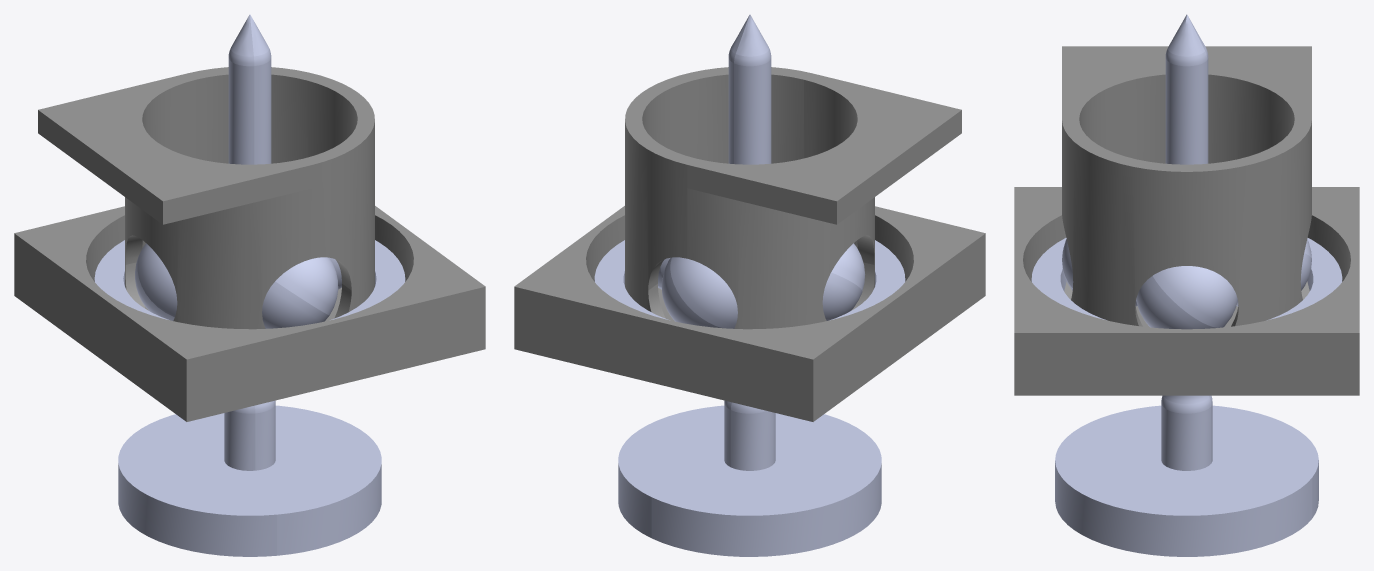
The model's file is eas-tag-internal-mechanism.obj.
3 renders of one model, left to right at view 1: azimuth 30°, elevation 25°; view 2: azimuth 150°, elevation 25°; view 3: azimuth 270°, elevation 25°, orthographic.
Visible parts, largest first — view 1: empty_3, empty_2, empty_5, empty_4, empty_6, empty_9; view 2: empty_3, empty_2, empty_5, empty_8, empty_6, empty_9; view 3: empty_3, empty_5, empty_2, empty_7, empty_6.
Boxes of the visible parts, <box> form: empty_3: <box>38,67,374,329</box>; empty_2: <box>14,206,485,421</box>; empty_5: <box>118,14,381,556</box>; empty_4: <box>262,257,338,328</box>; empty_6: <box>94,240,405,320</box>; empty_9: <box>135,243,177,320</box>; empty_3: <box>625,67,961,329</box>; empty_2: <box>514,206,985,421</box>; empty_5: <box>618,14,881,556</box>; empty_8: <box>661,257,737,328</box>; empty_6: <box>594,240,905,320</box>; empty_9: <box>822,243,865,320</box>; empty_3: <box>1062,46,1311,327</box>; empty_5: <box>1055,14,1318,556</box>; empty_2: <box>1014,187,1359,395</box>; empty_7: <box>1136,266,1237,329</box>; empty_6: <box>1031,238,1342,320</box>.
Size of the model in its own units: 0.02 by 0.0311 by 0.02.
